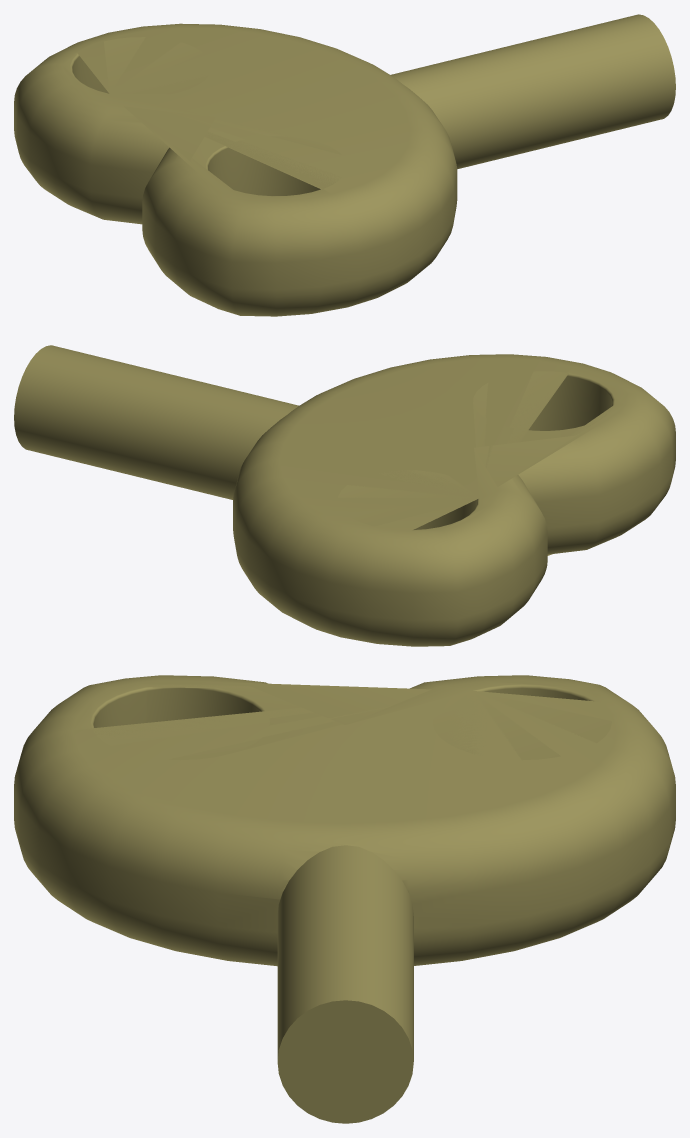
Rendered from Key.fbx.
3 renders of one model, top to bottom at view 1: azimuth 30°, elevation 25°; view 2: azimuth 150°, elevation 25°; view 3: azimuth 270°, elevation 25°, orthographic. The views are drawn at different scales.
Visible parts, largest first — view 1: Cylinder.001; view 2: Cylinder.001; view 3: Cylinder.001.
Part boxes in pixels (x1,y1,x2,y2): Cylinder.001: (14, 14, 675, 316); Cylinder.001: (14, 345, 675, 646); Cylinder.001: (14, 675, 675, 1123).
Size of the model in its own units: 26.35 by 5.13 by 21.93.
